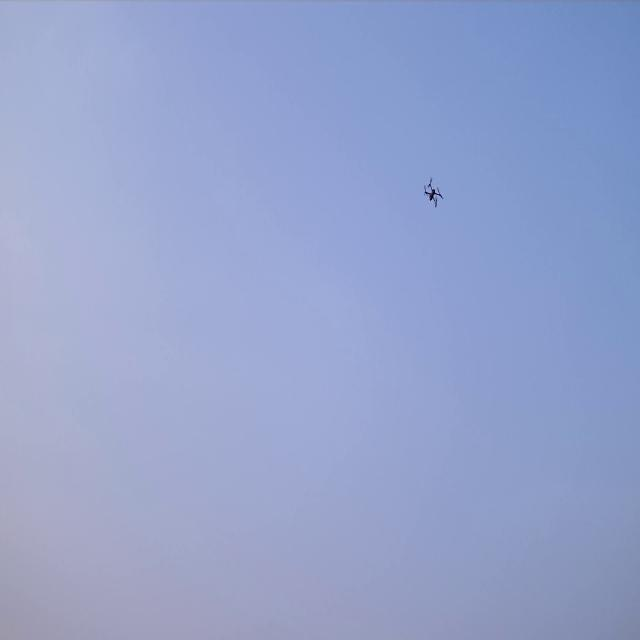UAV: (424, 180, 442, 206)
